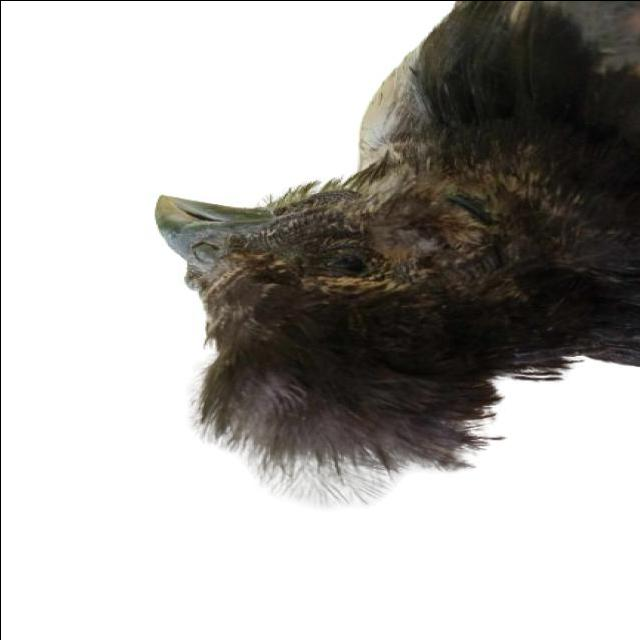Coryza: (261, 212, 418, 312)
